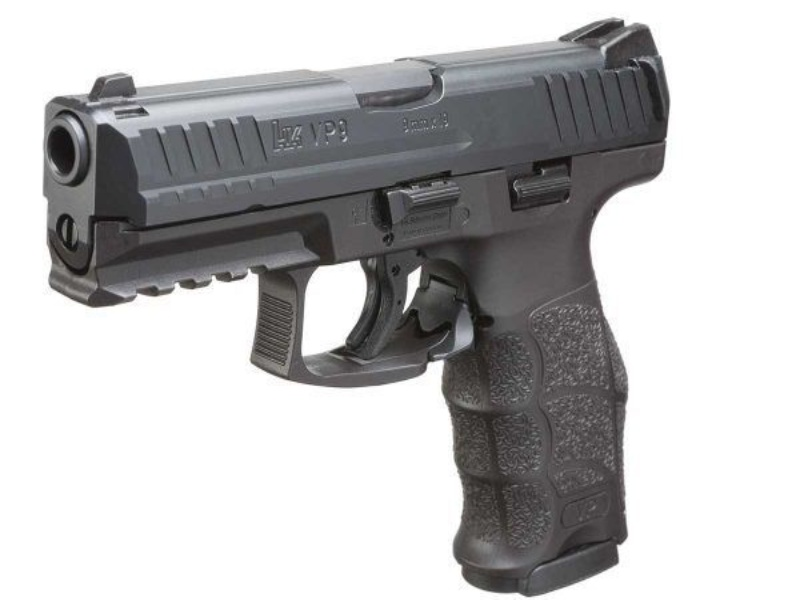gun: (39, 14, 680, 573)
